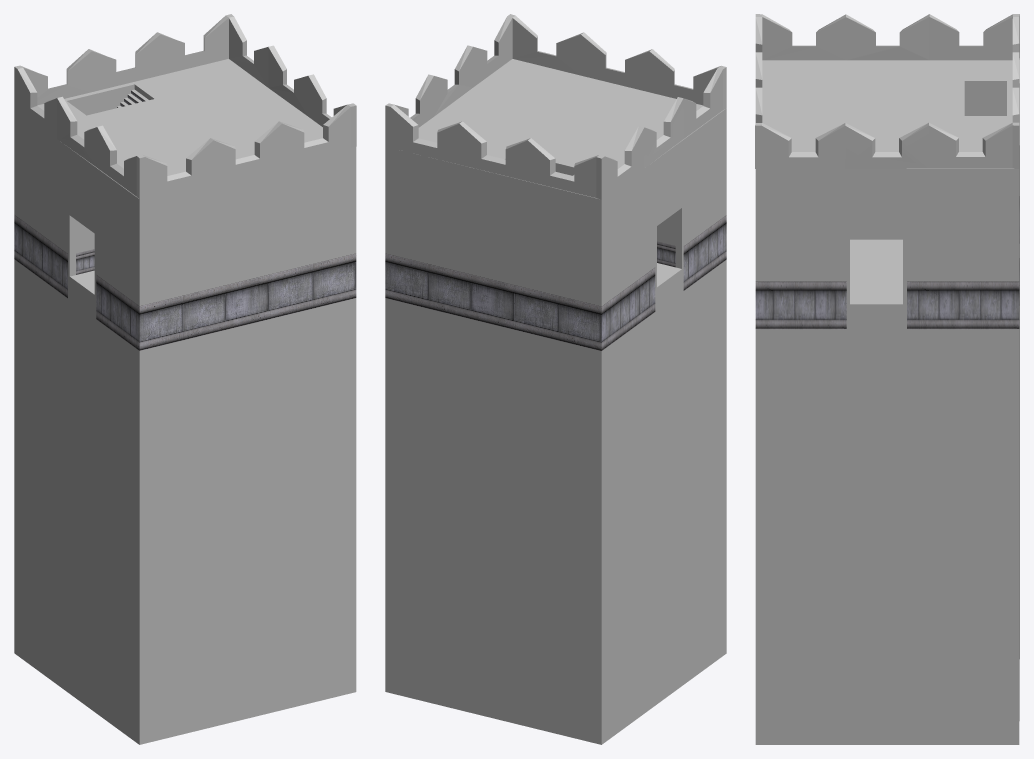
File: WallTower2.FBX
The picture shows the model from 3 angles, left to right: view 1: azimuth 30°, elevation 25°; view 2: azimuth 150°, elevation 25°; view 3: azimuth 270°, elevation 25°; orthographic projection. The views are drawn at different scales.
Visible parts, largest first — view 1: TowerWall2; view 2: TowerWall2; view 3: TowerWall2.
Part boxes in pixels (x1,y1,x2,y2): TowerWall2: [14, 14, 356, 744]; TowerWall2: [385, 14, 726, 744]; TowerWall2: [755, 14, 1019, 744].
Bounding box in the file's own units: 170 × 440 × 171.
